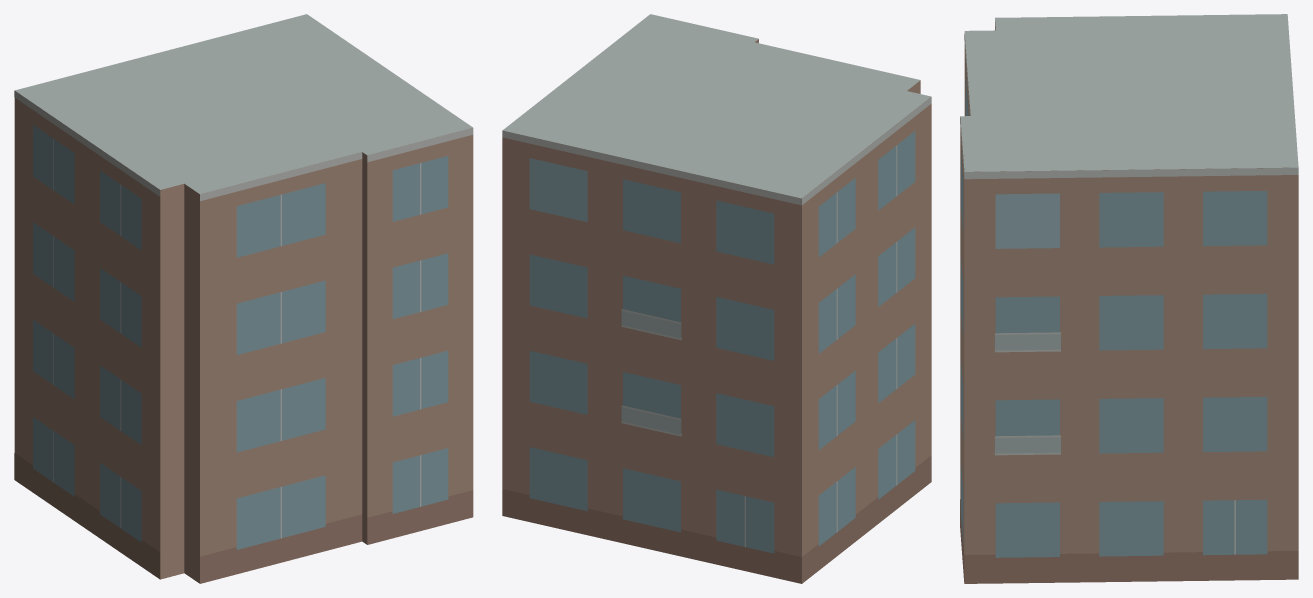
Rendered from survey-upis-32805361.glb.
3 views of the same model, side by side, from view 1: azimuth 30°, elevation 25°; view 2: azimuth 150°, elevation 25°; view 3: azimuth 270°, elevation 25° (orthographic). The views are drawn at different scales.
Visible parts, largest first — view 1: survey-upis-32805361.tmp; view 2: survey-upis-32805361.tmp; view 3: survey-upis-32805361.tmp.
Boxes of the visible parts, box(x1,y1,x2,y2) form: survey-upis-32805361.tmp: box(14, 14, 473, 583); survey-upis-32805361.tmp: box(502, 14, 931, 583); survey-upis-32805361.tmp: box(960, 14, 1298, 583).
Bounding box in the file's own units: 11.25 × 13.67 × 10.19.
